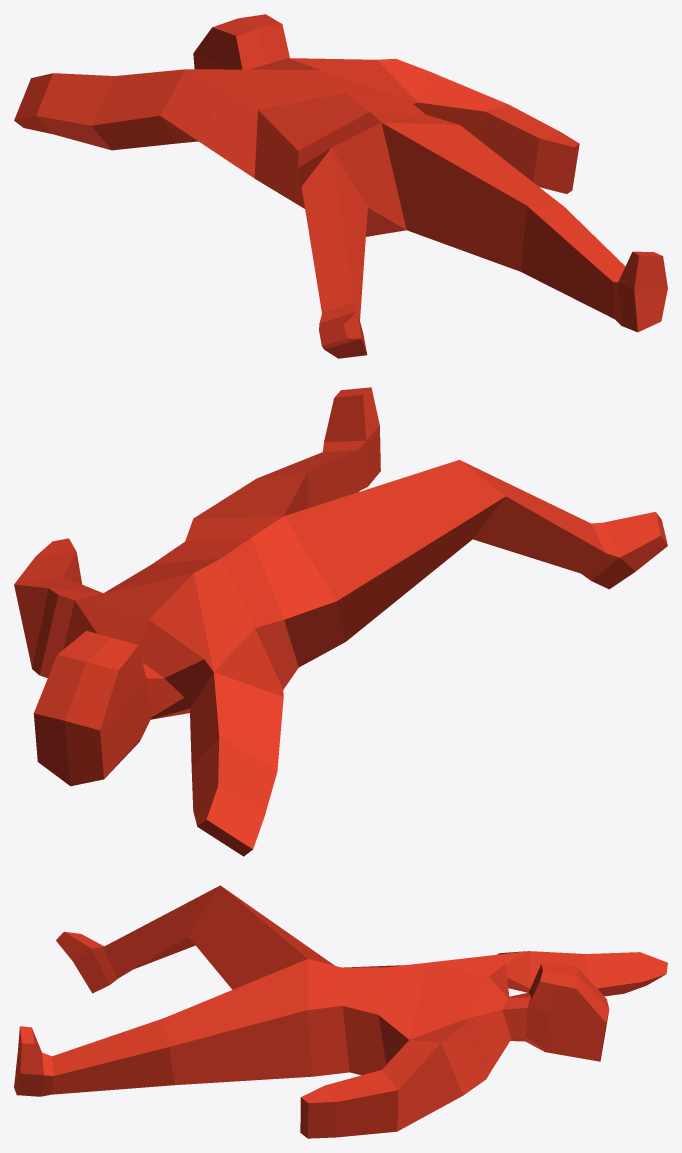
File: Player_Defeated.fbx
3 renders of one model, top to bottom at view 1: azimuth 30°, elevation 25°; view 2: azimuth 150°, elevation 25°; view 3: azimuth 270°, elevation 25°, orthographic. The views are drawn at different scales.
Parts seen in each view (by area): view 1: Person; view 2: Person; view 3: Person.
Part boxes in pixels (x1=…): Person: x1=14, y1=14, x2=667, y2=358; Person: x1=14, y1=387, x2=667, y2=856; Person: x1=14, y1=885, x2=667, y2=1138.
Size of the model in its own units: 555 by 207 by 924.
